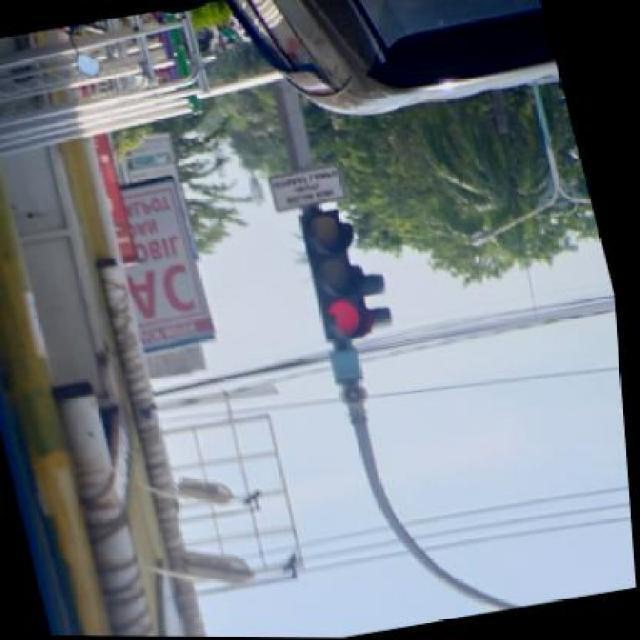red_light: (300, 203, 389, 340)
